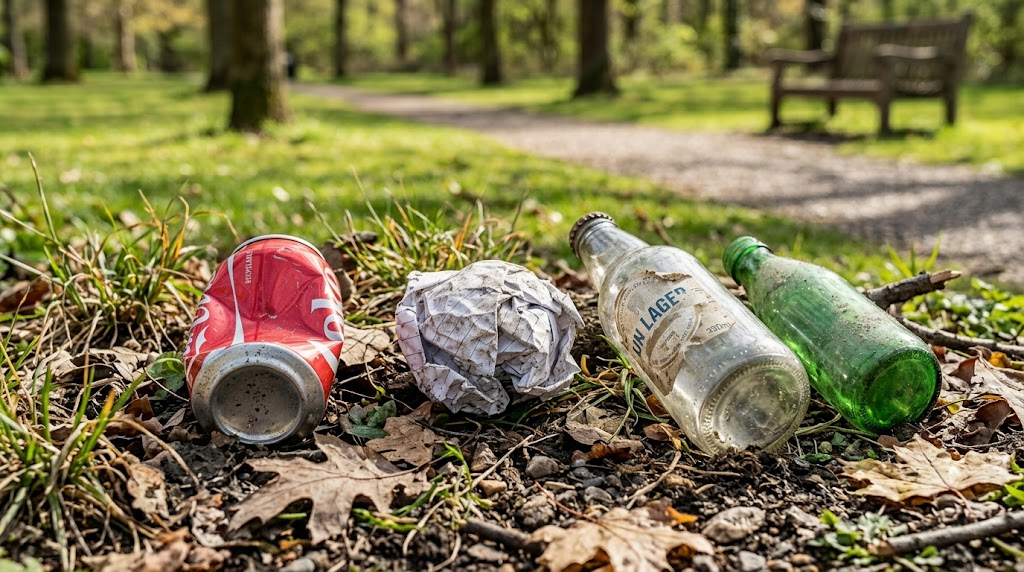glass: (568, 207, 808, 456), (719, 233, 944, 436)
metal: (182, 233, 346, 448)
paper: (394, 232, 579, 438)
